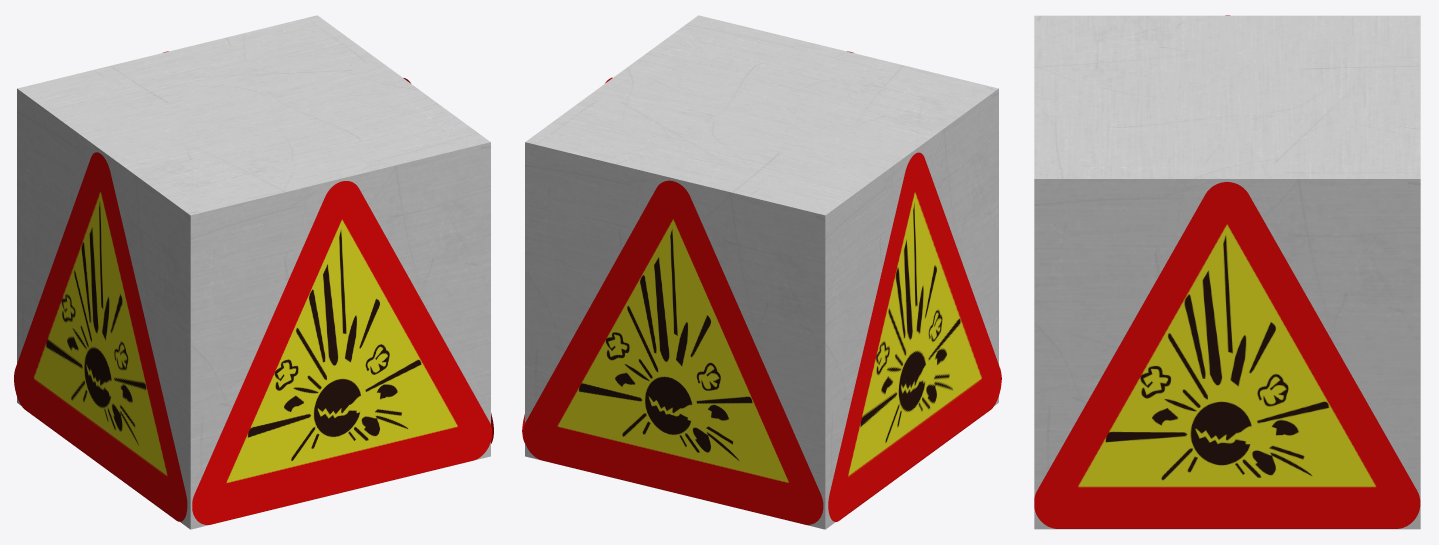
The model's file is explosive.obj.
The picture shows the model from 3 angles, left to right: view 1: azimuth 30°, elevation 25°; view 2: azimuth 150°, elevation 25°; view 3: azimuth 270°, elevation 25°; orthographic projection. The views are drawn at different scales.
Visible parts, largest first — view 1: Explosive1, Explosive3, Explosive2; view 2: Explosive1, Explosive5, Explosive2; view 3: Explosive1, Explosive4.
Boxes of the visible parts, bbox=[...] form: Explosive1: bbox=[17, 15, 490, 529]; Explosive3: bbox=[192, 181, 492, 524]; Explosive2: bbox=[14, 152, 187, 521]; Explosive1: bbox=[525, 15, 998, 529]; Explosive5: bbox=[523, 180, 823, 524]; Explosive2: bbox=[828, 152, 1001, 521]; Explosive1: bbox=[1034, 15, 1420, 529]; Explosive4: bbox=[1034, 182, 1420, 528].
Size of the model in its own units: 2.04 by 2 by 2.04.
Materials: 2 (2 with a texture image).
